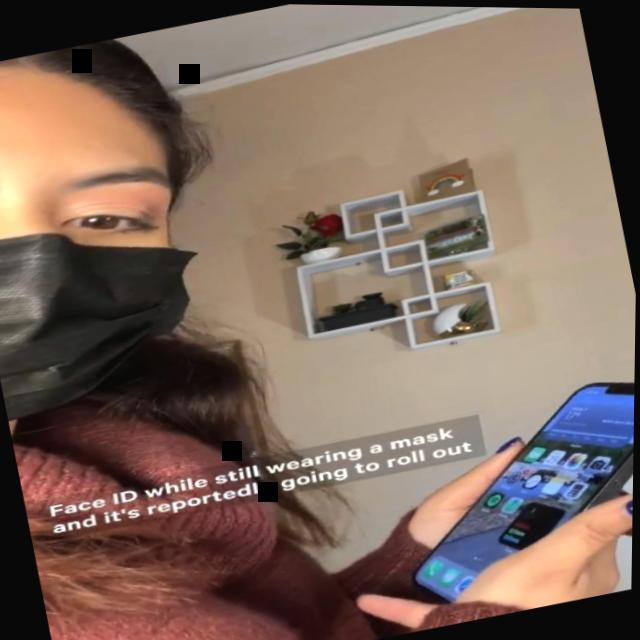Mask: (0, 30, 218, 425)
